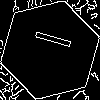I: (25, 25, 72, 51)
